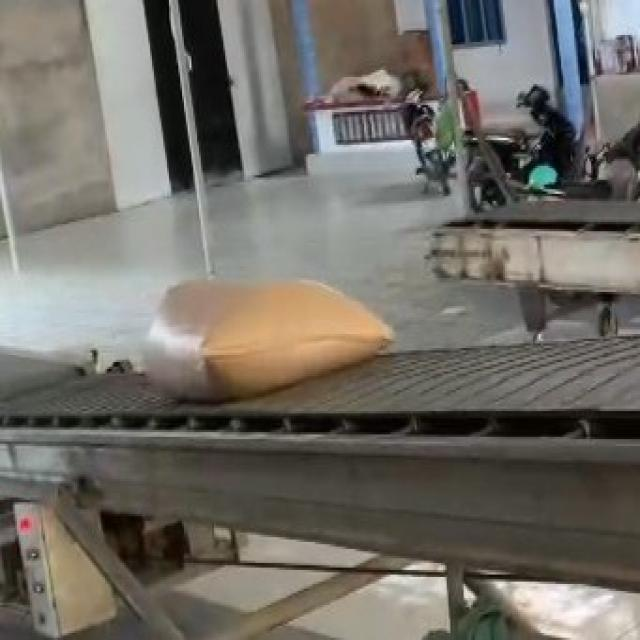gunny_bag: (146, 280, 394, 401)
